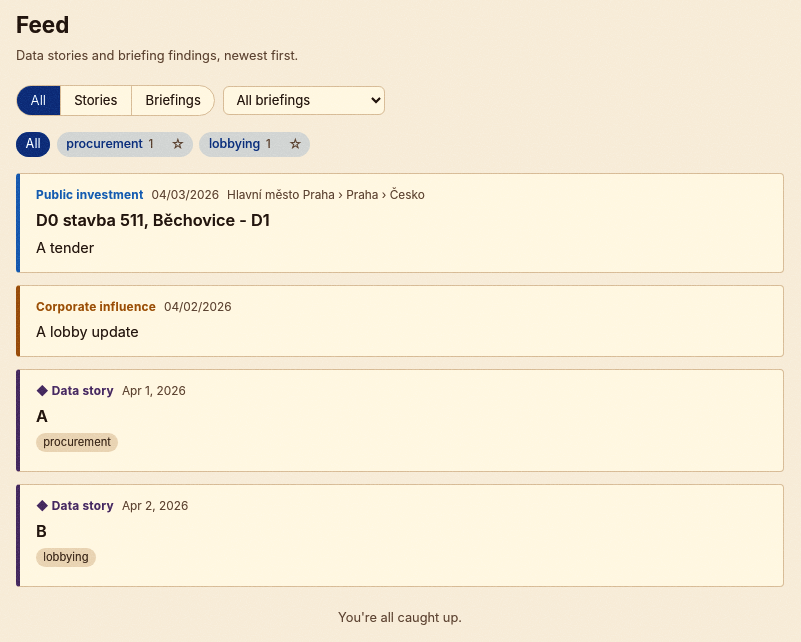
FeedView › renders a follow star per chip and toggles localStorage when clicked (unauth)
The width and height of the screenshot is (801, 642).
Step 1. Click the button with test id "tag-follow-procurement" → click(178, 145), box [163,135,193,155]
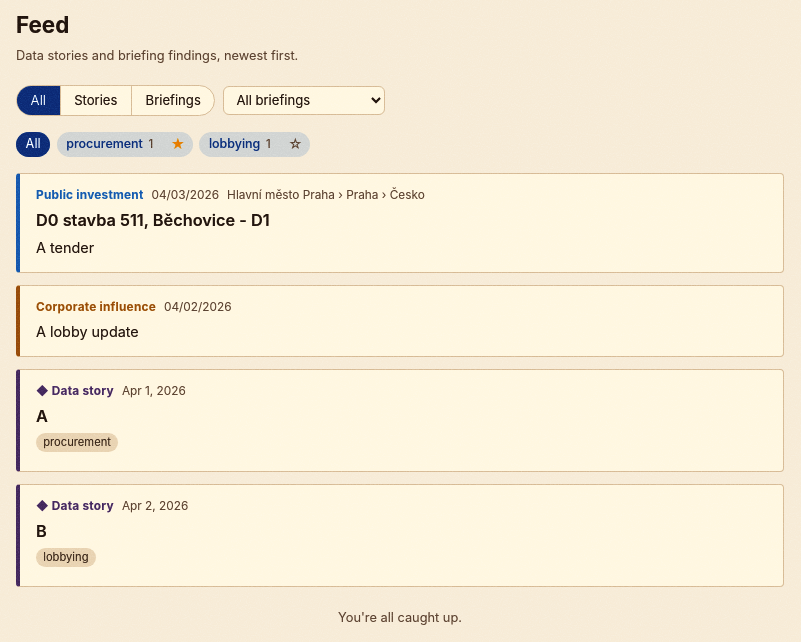
Now the button with test id "tag-follow-procurement" reads "★", box [163,135,193,155]
